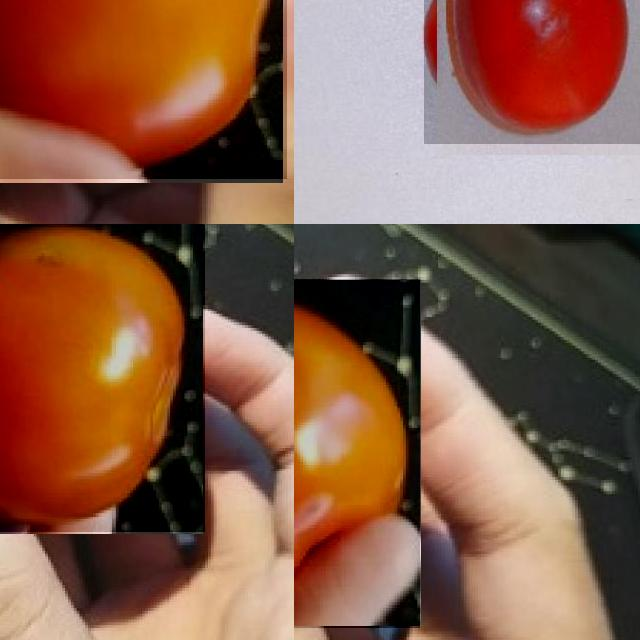0: (0, 224, 204, 532), (0, 0, 287, 179), (294, 279, 420, 627)
Fresh Tomato: (424, 0, 640, 144)
